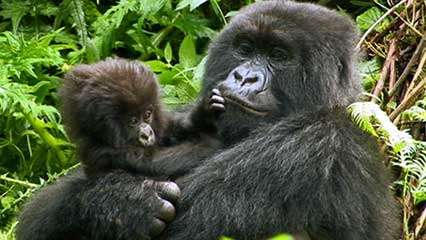Goriila: (172, 3, 392, 238), (49, 44, 222, 182)
